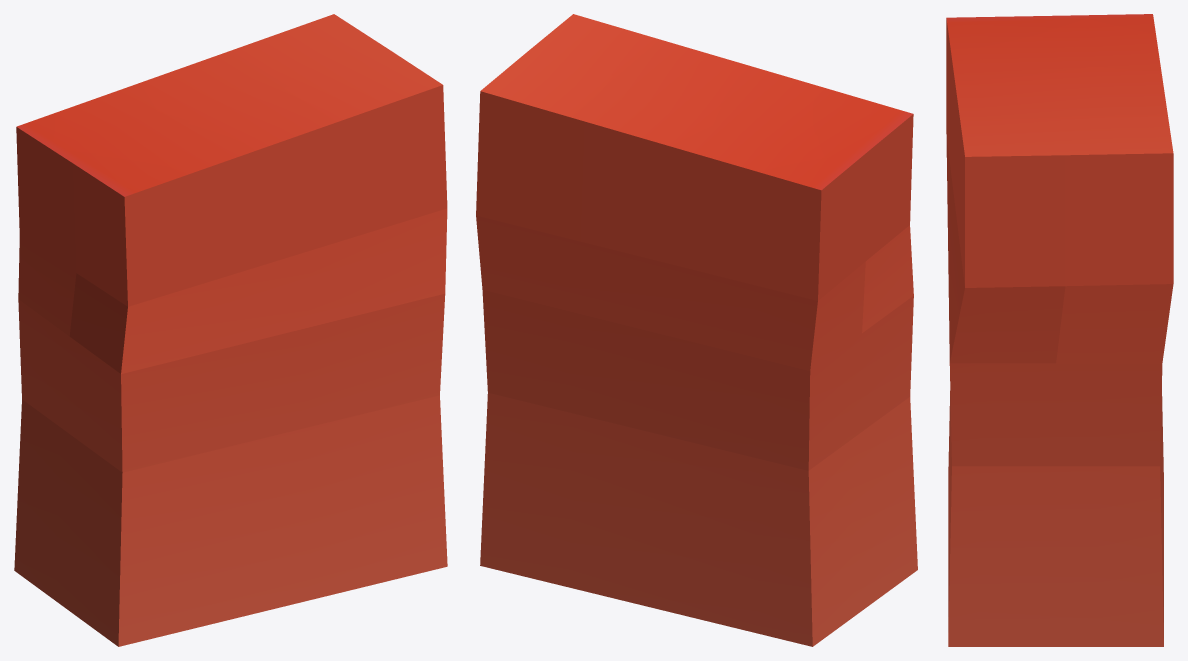
File: Store_Box02.fbx
3 views of the same model, side by side, from view 1: azimuth 30°, elevation 25°; view 2: azimuth 150°, elevation 25°; view 3: azimuth 270°, elevation 25° (orthographic). The views are drawn at different scales.
Parts seen in each view (by area): view 1: Another Box; view 2: Another Box; view 3: Another Box.
Boxes of the visible parts, x1=… form: Another Box: x1=14, y1=14, x2=447, y2=646; Another Box: x1=476, y1=14, x2=917, y2=646; Another Box: x1=946, y1=14, x2=1173, y2=646.
Bounding box in the file's own units: 28.65 × 38.18 × 15.97.
